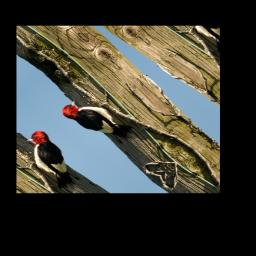Woodpecker: (58, 85, 142, 154)
